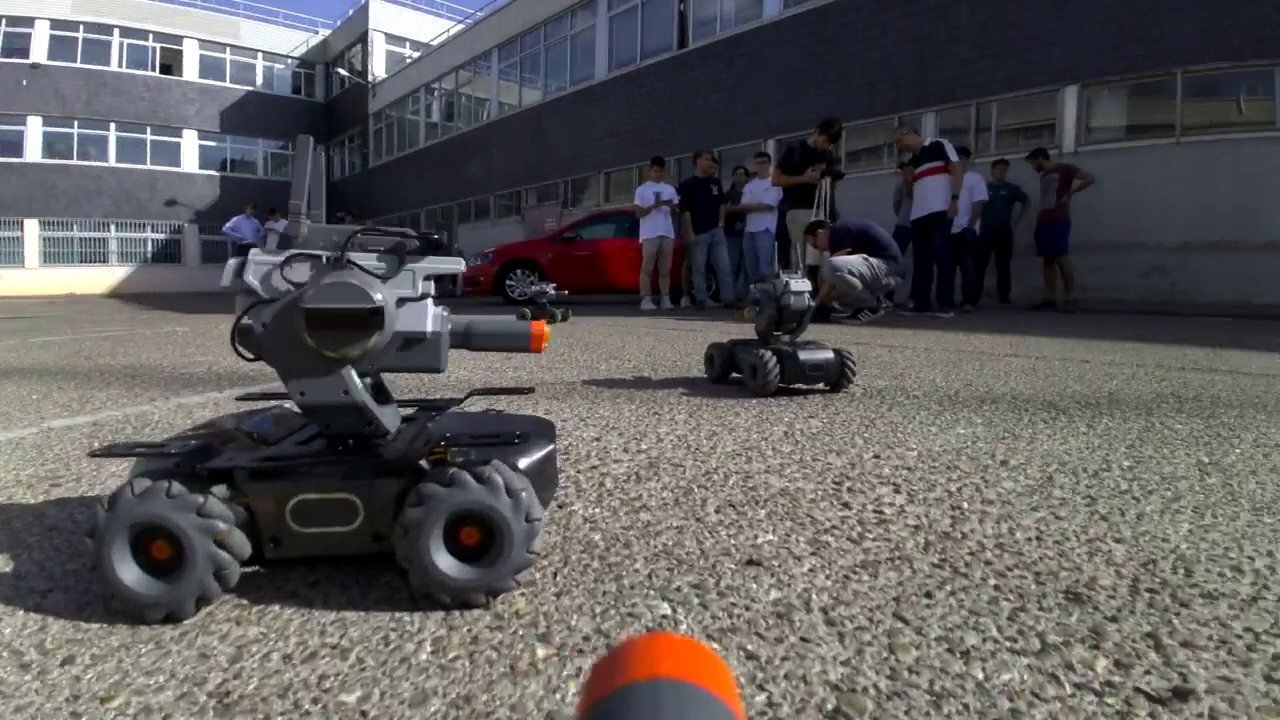robot: (86, 135, 561, 625), (703, 242, 857, 397), (515, 277, 578, 326)
